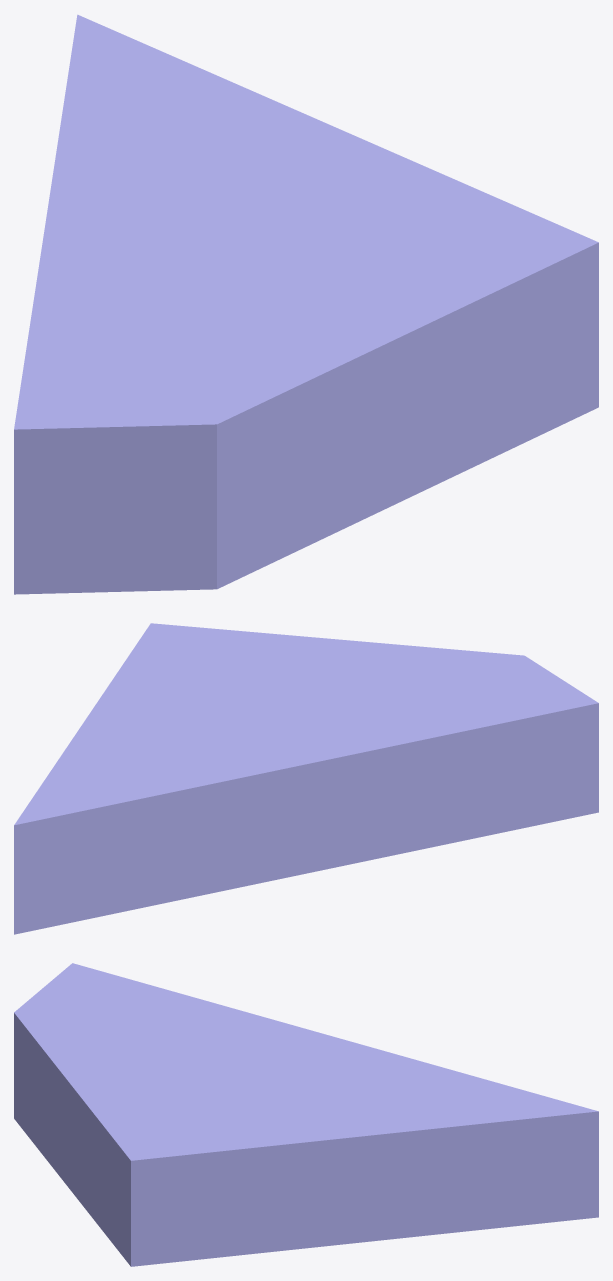
Rendered from Elements_Space.glb.
The picture shows the model from 3 angles, top to bottom: view 1: azimuth 30°, elevation 25°; view 2: azimuth 150°, elevation 25°; view 3: azimuth 270°, elevation 25°; orthographic projection. The views are drawn at different scales.
Visible parts, largest first — view 1: e3cd6613-abed-4eee-849f-24c21a7a3e09_mesh; view 2: e3cd6613-abed-4eee-849f-24c21a7a3e09_mesh; view 3: e3cd6613-abed-4eee-849f-24c21a7a3e09_mesh.
Boxes of the visible parts, x1,y1,x2,y2 form: e3cd6613-abed-4eee-849f-24c21a7a3e09_mesh: (14, 14, 598, 594); e3cd6613-abed-4eee-849f-24c21a7a3e09_mesh: (14, 623, 598, 934); e3cd6613-abed-4eee-849f-24c21a7a3e09_mesh: (14, 963, 598, 1266).
Bounding box in the file's own units: 40 × 10 × 50.
